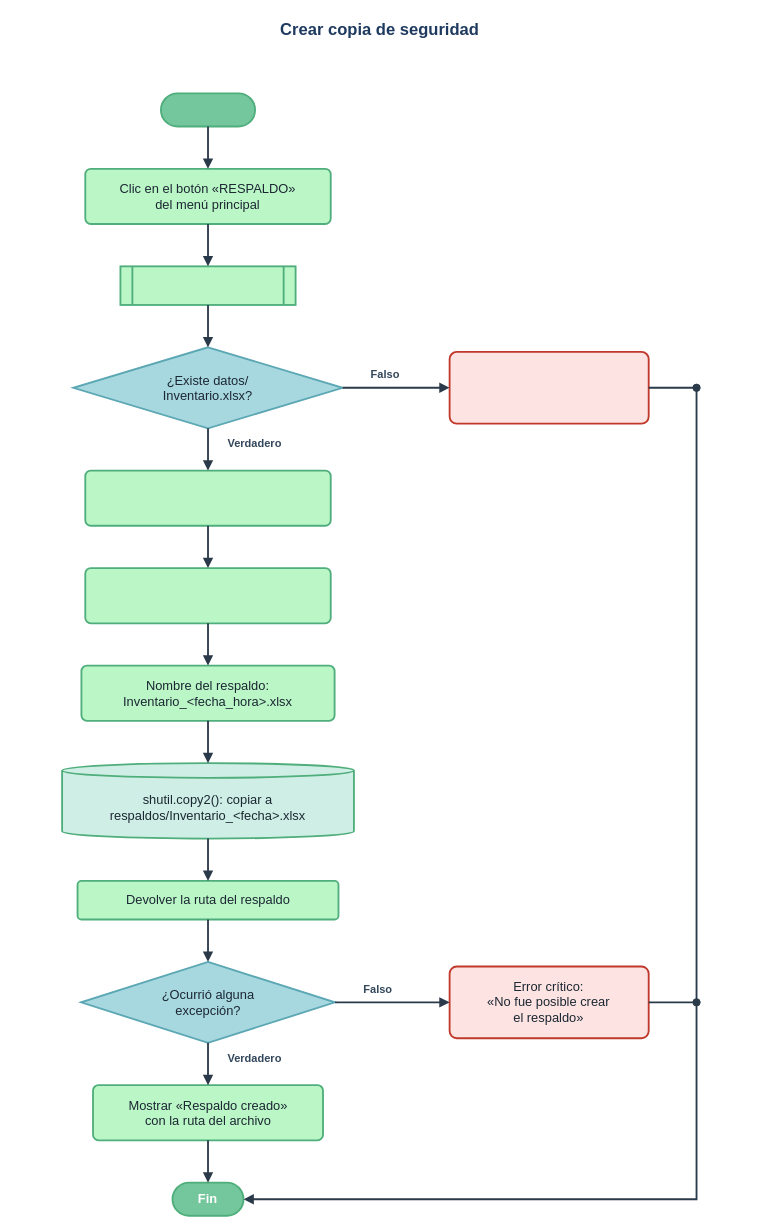
Image size: 757x1232. Some labels were removed from this diagram. The centre of each missing label's shape, as x and y in pixels:
"Advertencia: «No se encontró Inventario.xlsx»" goes at [548,387].
"Crear la carpeta respaldos/ si no existe (mkdir)" goes at [207,497].
"crear_respaldo()" goes at [207,285].
"Inicio" goes at [208,109].
"Obtener fecha y hora actual (AAAA-MM-DD_HH-MM-SS)" goes at [207,595].
